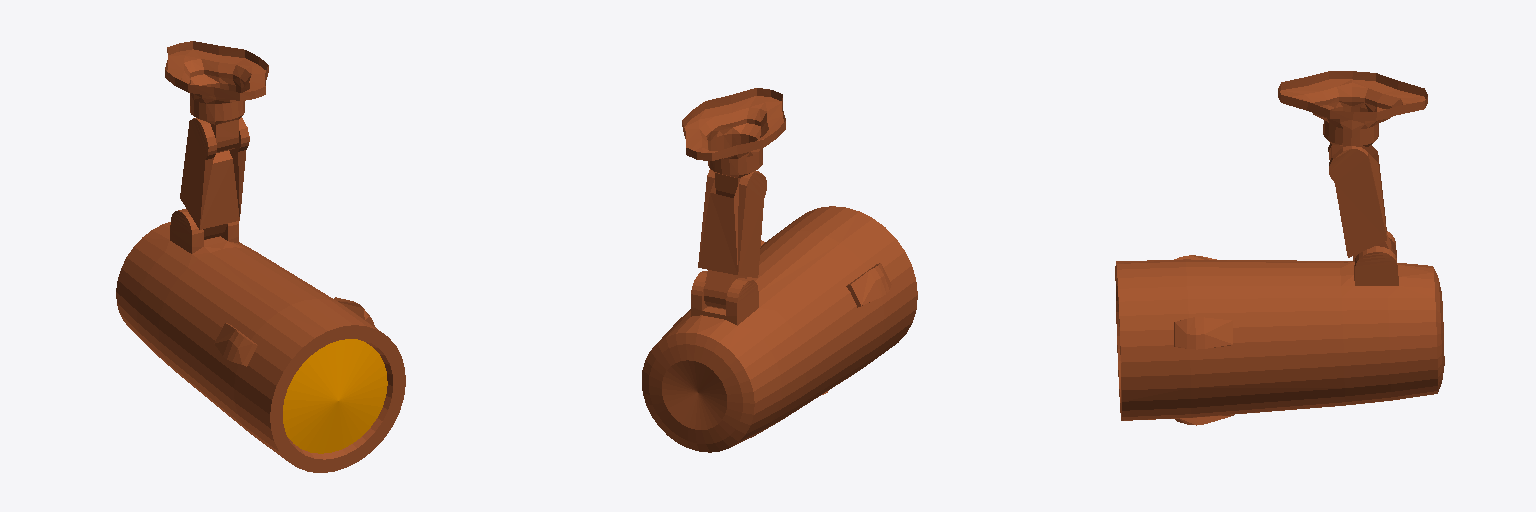
Rendered from jumperFlashLight.obj.
The picture shows the model from 3 angles: view 1: azimuth 30°, elevation 25°; view 2: azimuth 150°, elevation 25°; view 3: azimuth 270°, elevation 25°; orthographic projection.
Parts seen in each view (by area): view 1: Spotlight_Big_meshId0_name, Spotlight_Big.001_meshId0_name.001; view 2: Spotlight_Big_meshId0_name; view 3: Spotlight_Big_meshId0_name.
Part boxes in pixels (x1,y1,x2,y2): Spotlight_Big_meshId0_name: (116,41,405,472); Spotlight_Big.001_meshId0_name.001: (283,339,387,453); Spotlight_Big_meshId0_name: (642,88,917,452); Spotlight_Big_meshId0_name: (1115,71,1444,425).
Bounding box in the file's own units: 0.437 × 0.9391 × 0.8421.